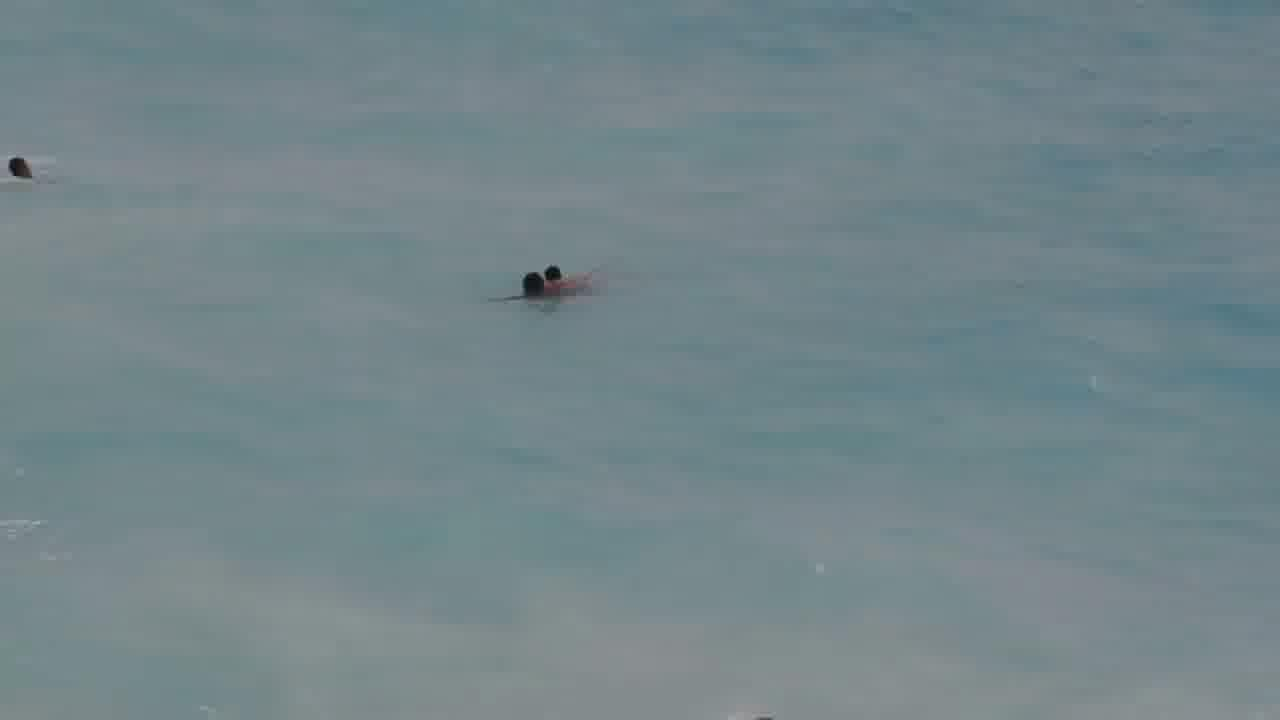human: (477, 274, 550, 308), (541, 255, 597, 293), (3, 151, 43, 186)
